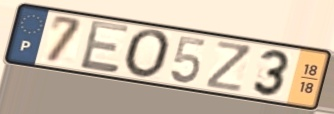3: (252, 47, 292, 99)
5: (168, 34, 209, 86)
7: (44, 13, 86, 65)
E: (78, 18, 132, 75)
O: (122, 28, 174, 82)
Z: (204, 39, 254, 95)
